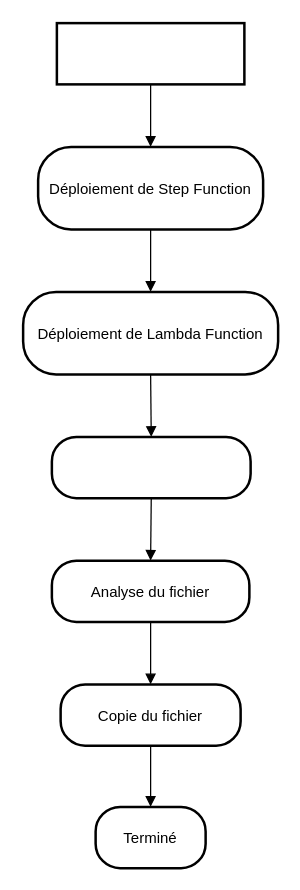
Some shapes in this 300 by 890 pixel diagram are drawn without their labels. The box of each missing label's shape, as (x1, y1, x2, y2) in pixels:
Initialisation: (55, 21, 245, 85)
Lecture du fichier: (50, 435, 251, 499)
